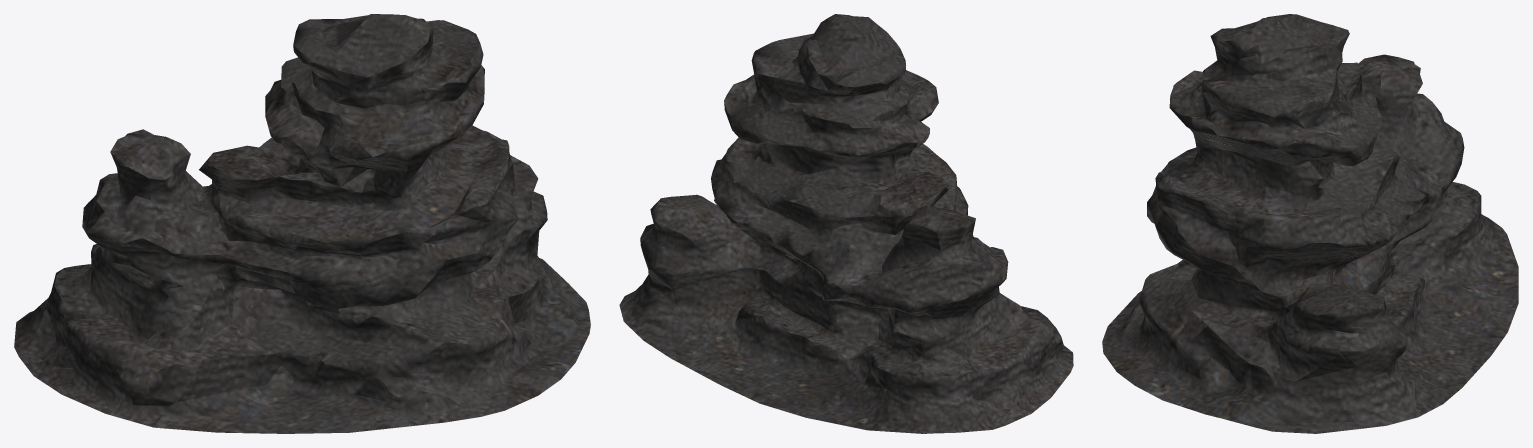
The model's file is largeRocks.fbx.
3 views of the same model, side by side, from view 1: azimuth 30°, elevation 25°; view 2: azimuth 150°, elevation 25°; view 3: azimuth 270°, elevation 25° (orthographic). The views are drawn at different scales.
Parts seen in each view (by area): view 1: LargeCaveRock; view 2: LargeCaveRock; view 3: LargeCaveRock.
Part boxes in pixels (left/top/right/bottom): LargeCaveRock: left=14, top=14, right=590, bottom=433; LargeCaveRock: left=619, top=14, right=1073, bottom=433; LargeCaveRock: left=1102, top=14, right=1518, bottom=433.
Bounding box in the file's own units: 2660 × 1785 × 2073.
1 material, 1 textured.
